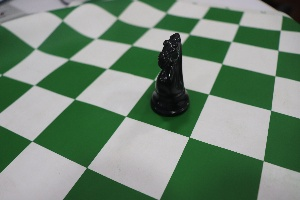black_horse: (145, 21, 206, 127)
